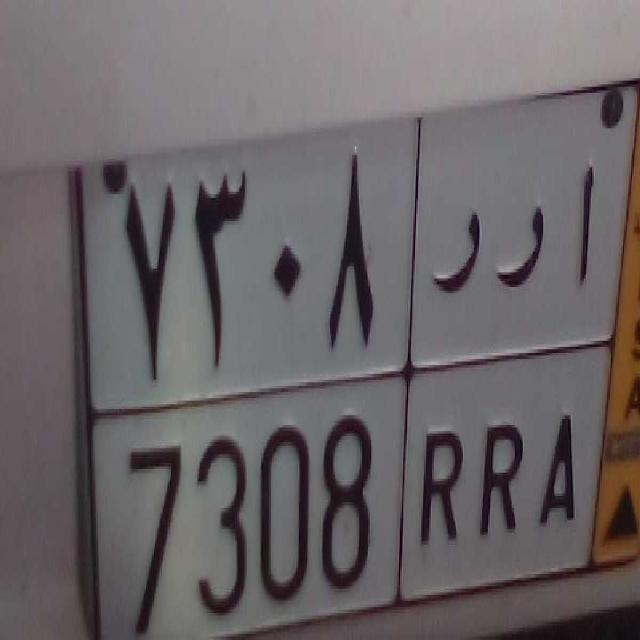license_plate: (89, 380, 607, 640)
